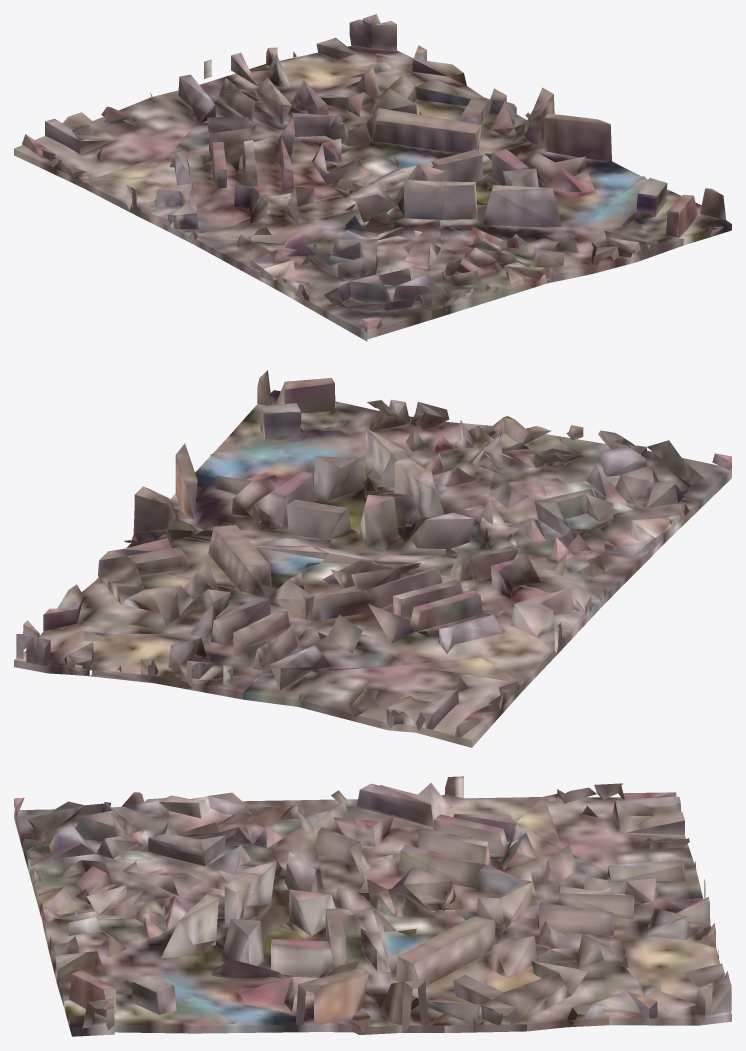
3 renders of one model, top to bottom at view 1: azimuth 30°, elevation 25°; view 2: azimuth 150°, elevation 25°; view 3: azimuth 270°, elevation 25°, orthographic. The views are drawn at different scales.
Visible parts, largest first — view 1: Mesh_0; view 2: Mesh_0; view 3: Mesh_0.
Boxes of the visible parts, x1,y1,x2,y2 form: Mesh_0: (14, 14, 731, 341); Mesh_0: (14, 370, 731, 747); Mesh_0: (14, 776, 731, 1036).
Size of the model in its own units: 533 by 66.96 by 659.
Materials: 2 (2 with a texture image).
